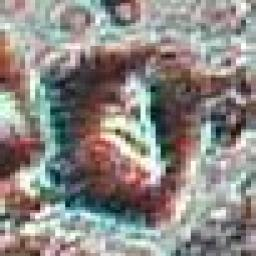crystals: (40, 44, 199, 239)
